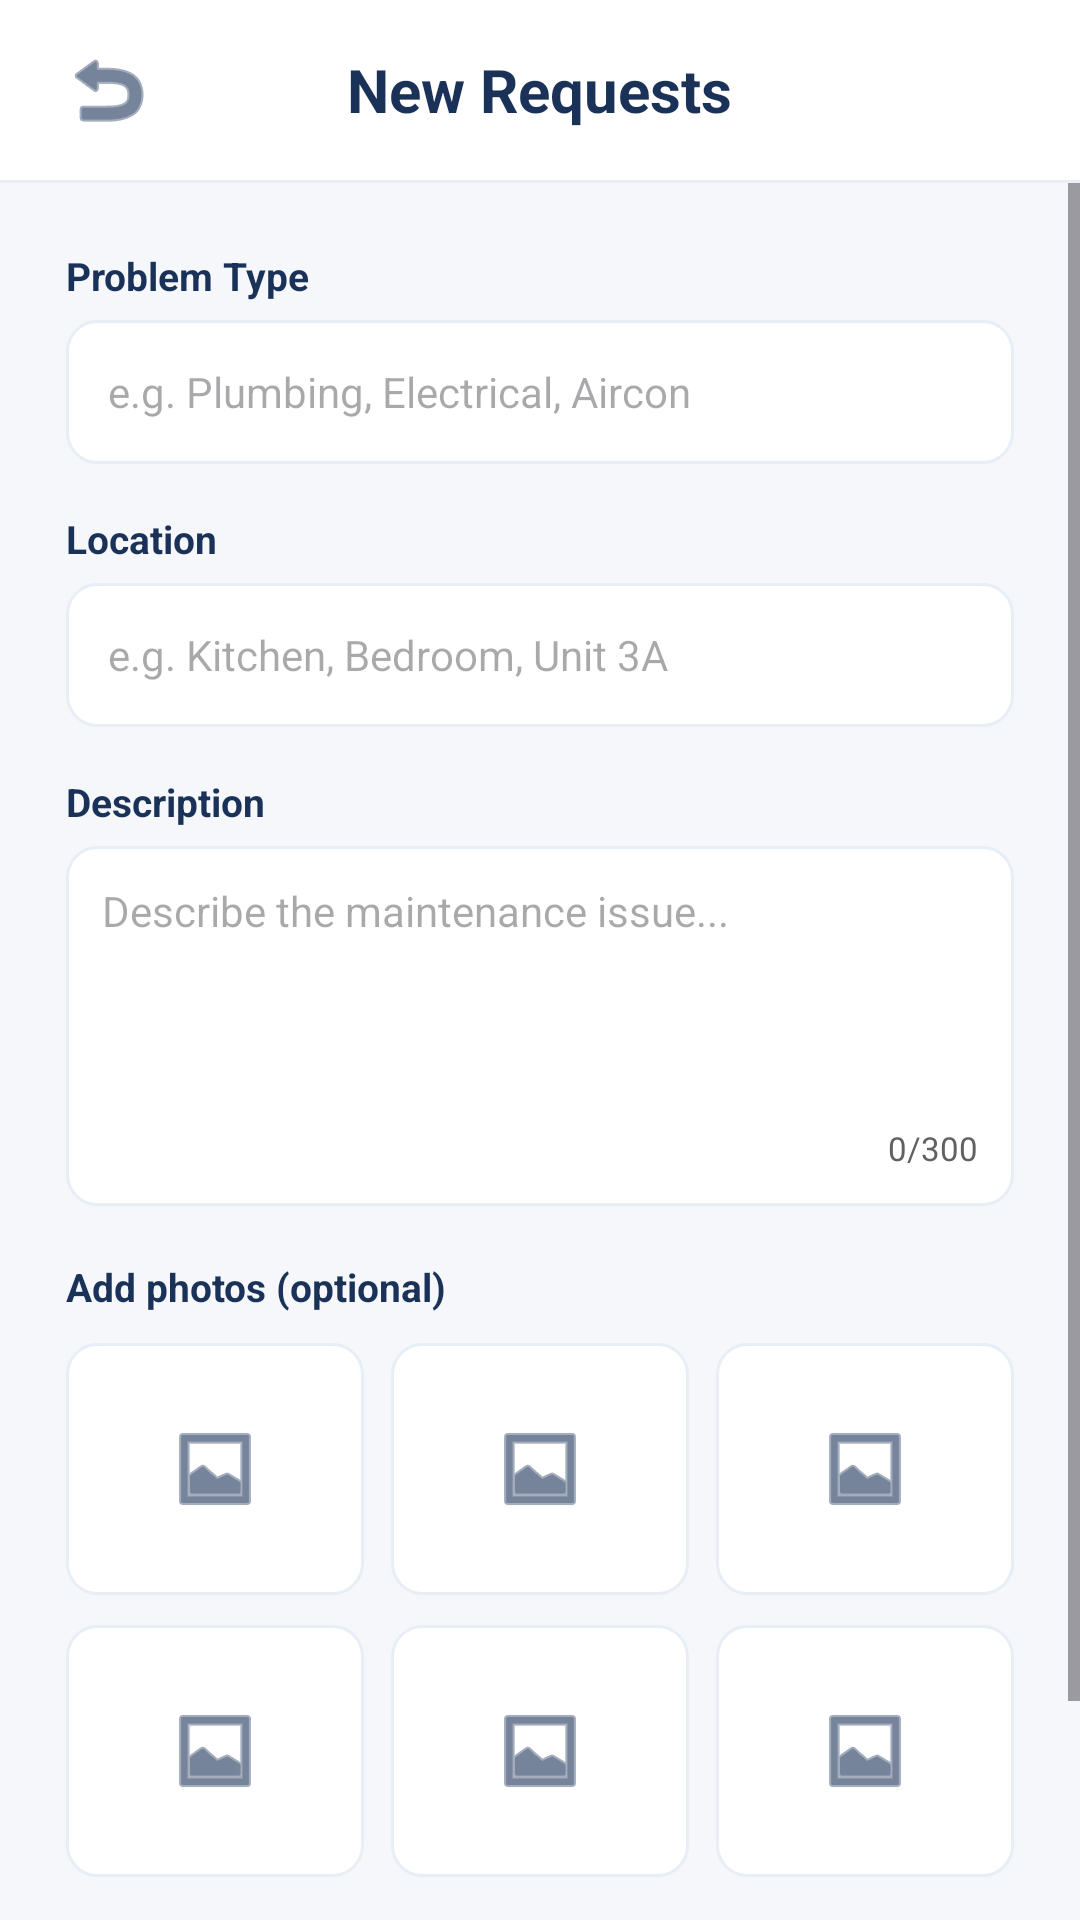

Icon bounding boxes for this 1080x1920 phone screenshot, format (x1, y1, x2, y2):
Add Photo 1: (179, 1433, 251, 1505)
Add Photo 2: (504, 1433, 576, 1505)
Add Photo 3: (829, 1433, 901, 1505)
Add Photo 4: (179, 1715, 251, 1787)
Add Photo 5: (504, 1715, 576, 1787)
Add Photo 6: (829, 1715, 901, 1787)
Back: (75, 59, 144, 122)
